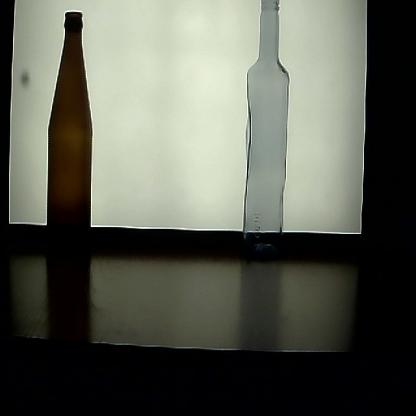Can: (241, 0, 294, 266), (45, 9, 97, 280)
